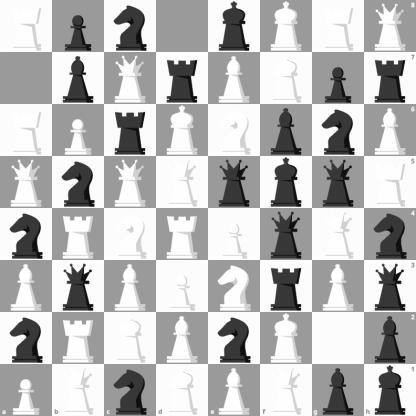B: (364, 104, 416, 156), (209, 364, 260, 416), (1, 261, 52, 312), (105, 261, 156, 312), (157, 313, 208, 364), (209, 53, 260, 104), (313, 261, 364, 312)
K: (156, 364, 209, 416), (105, 313, 156, 364), (157, 105, 208, 156), (261, 1, 312, 52), (261, 53, 312, 104), (261, 313, 312, 364)
N: (105, 209, 156, 260), (209, 105, 260, 156), (209, 261, 260, 312)
P: (0, 364, 52, 416), (53, 105, 104, 156), (157, 261, 208, 312), (209, 209, 260, 260)
Q: (52, 364, 104, 416), (260, 364, 312, 416), (364, 0, 416, 52), (1, 157, 52, 208), (105, 53, 156, 104), (105, 157, 156, 208), (157, 157, 208, 208), (313, 209, 364, 260)
R: (364, 156, 416, 209), (1, 1, 52, 52), (1, 105, 52, 156), (53, 209, 104, 260), (53, 313, 104, 364), (157, 209, 208, 260), (313, 1, 364, 52)
b: (312, 364, 364, 416), (364, 312, 416, 364), (53, 53, 104, 104), (261, 105, 312, 156)
board: (0, 0, 415, 415)
k: (364, 364, 416, 416), (209, 1, 260, 52), (261, 157, 312, 208)
n: (104, 364, 156, 416), (364, 209, 416, 260), (1, 209, 52, 260), (1, 313, 52, 364), (53, 157, 104, 208), (105, 1, 156, 52), (209, 313, 260, 364), (313, 105, 364, 156)
p: (53, 1, 104, 52), (313, 53, 364, 104)
q: (364, 260, 416, 312), (53, 261, 104, 312), (209, 157, 260, 208), (261, 209, 312, 260), (313, 157, 364, 208)
r: (364, 52, 416, 104), (105, 105, 156, 156), (157, 53, 208, 104), (261, 261, 312, 312)
